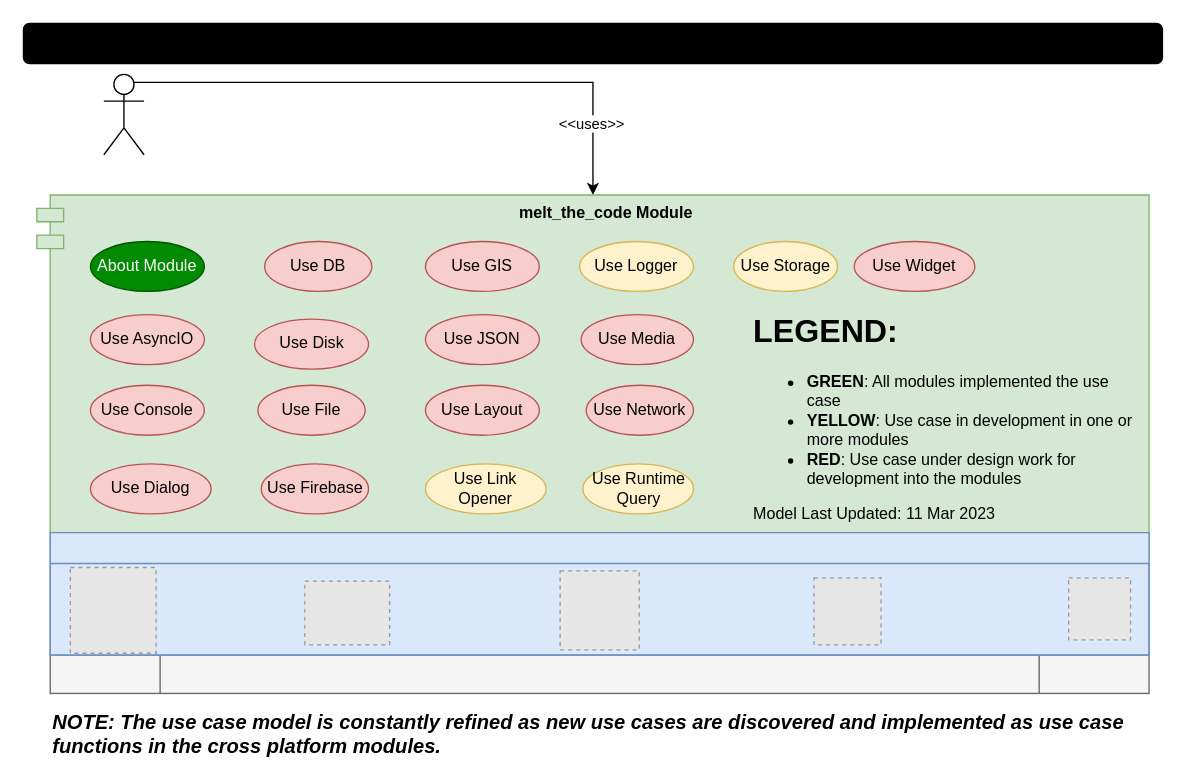
Some shapes in this 1186 by 784 pixel diagram are drawn without their labels. Grey dashed boxes stand in for pictures. Each missing label, with the box of its shape:
Operating System: (49, 652, 1149, 693)
Software Application: (103, 73, 144, 155)
Software Developer Kit / Language: (49, 531, 1149, 655)
Use Case Model: (22, 22, 1162, 64)
